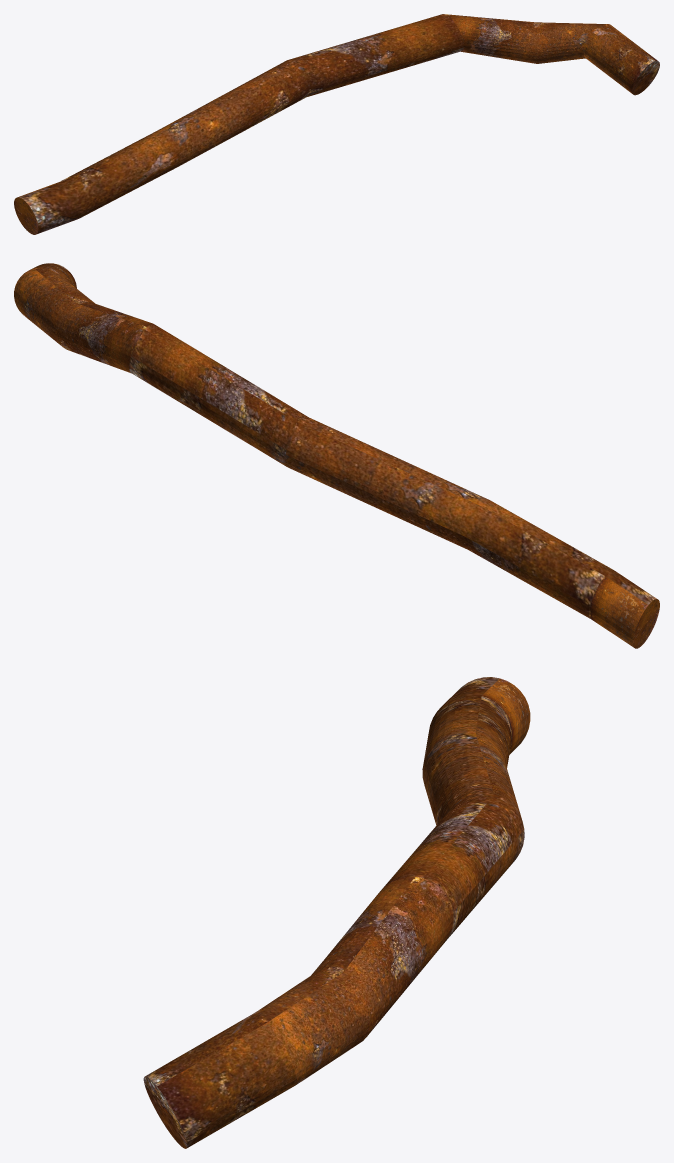
Rendered from Fierro.fbx.
3 views of the same model, one above another, from view 1: azimuth 30°, elevation 25°; view 2: azimuth 150°, elevation 25°; view 3: azimuth 270°, elevation 25° (orthographic). The views are drawn at different scales.
Parts seen in each view (by area): view 1: Fierro; view 2: Fierro; view 3: Fierro.
Part boxes in pixels (<box>): Fierro: <box>14,14,659,234</box>; Fierro: <box>14,263,659,648</box>; Fierro: <box>143,677,530,1148</box>.
Bounding box in the file's own units: 874 × 201 × 261.
